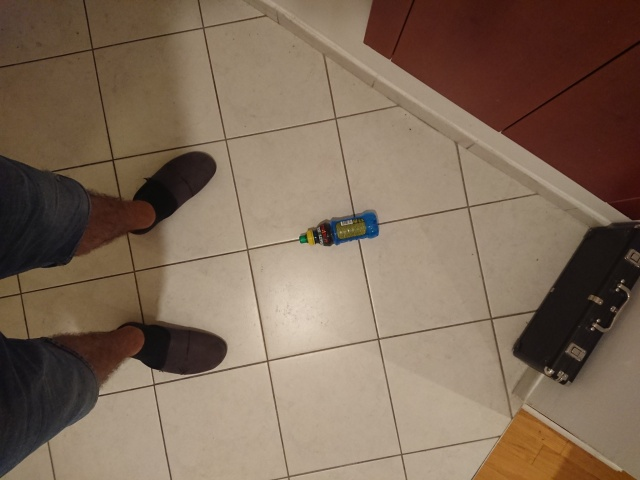Vindi Iso Sport Forest Strawberries 500mL: (298, 211, 380, 247)
